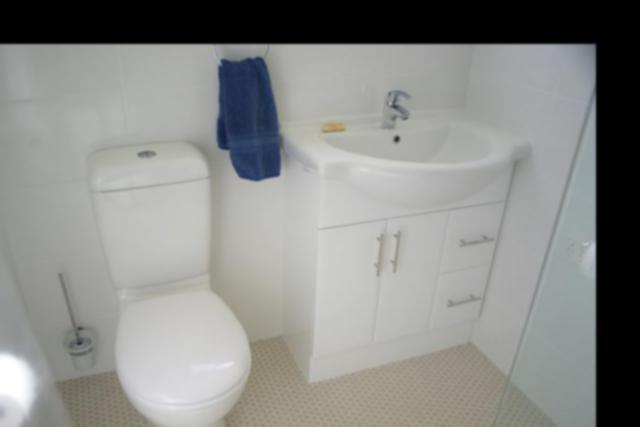Ducha: (497, 44, 595, 427)
Lavamanos: (279, 77, 525, 205)
Sanitario: (91, 138, 254, 427)
